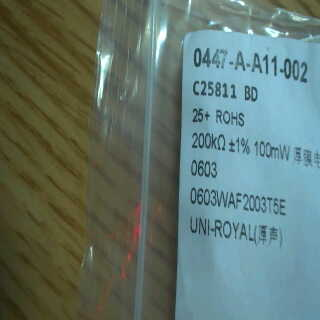200kR: (190, 130, 228, 153)
